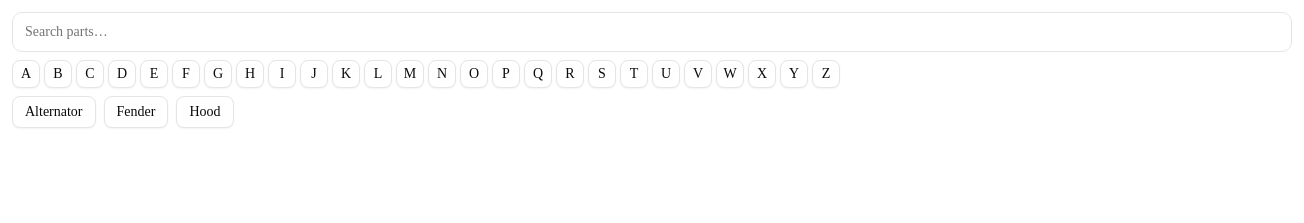
Test: TaxonomyPicker › shows every name starting with a pressed letter, including non-quick-picks
The width and height of the screenshot is (1304, 223).
Click the button "F".
click(186, 74)  # box [172, 60, 200, 88]
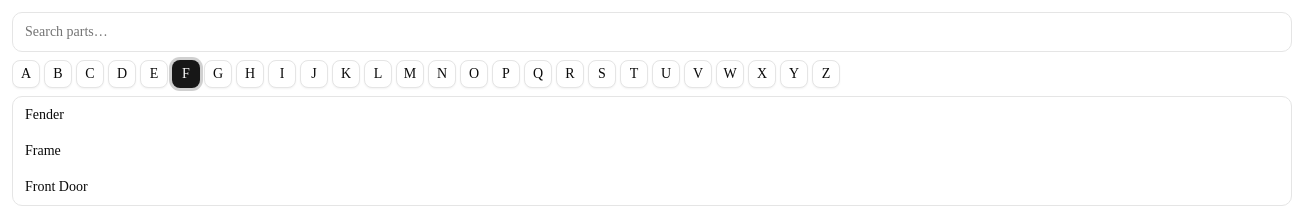
Check: the option "Frame" is shown, box [13, 133, 1291, 169]
Check: the option "Front Door" is shown, box [13, 169, 1291, 205]
Check: the button "Alternator" is gone
